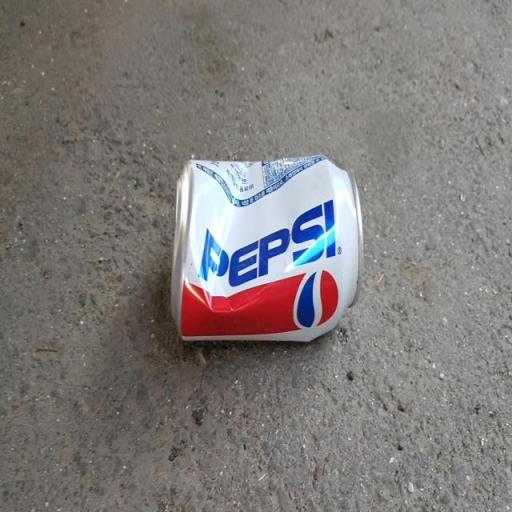metal: (144, 88, 378, 384)
